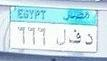6: (37, 26, 49, 46), (17, 25, 26, 46), (28, 26, 37, 46)
daal: (83, 35, 95, 46)
faa: (69, 28, 81, 45)
laam: (54, 28, 68, 47)
